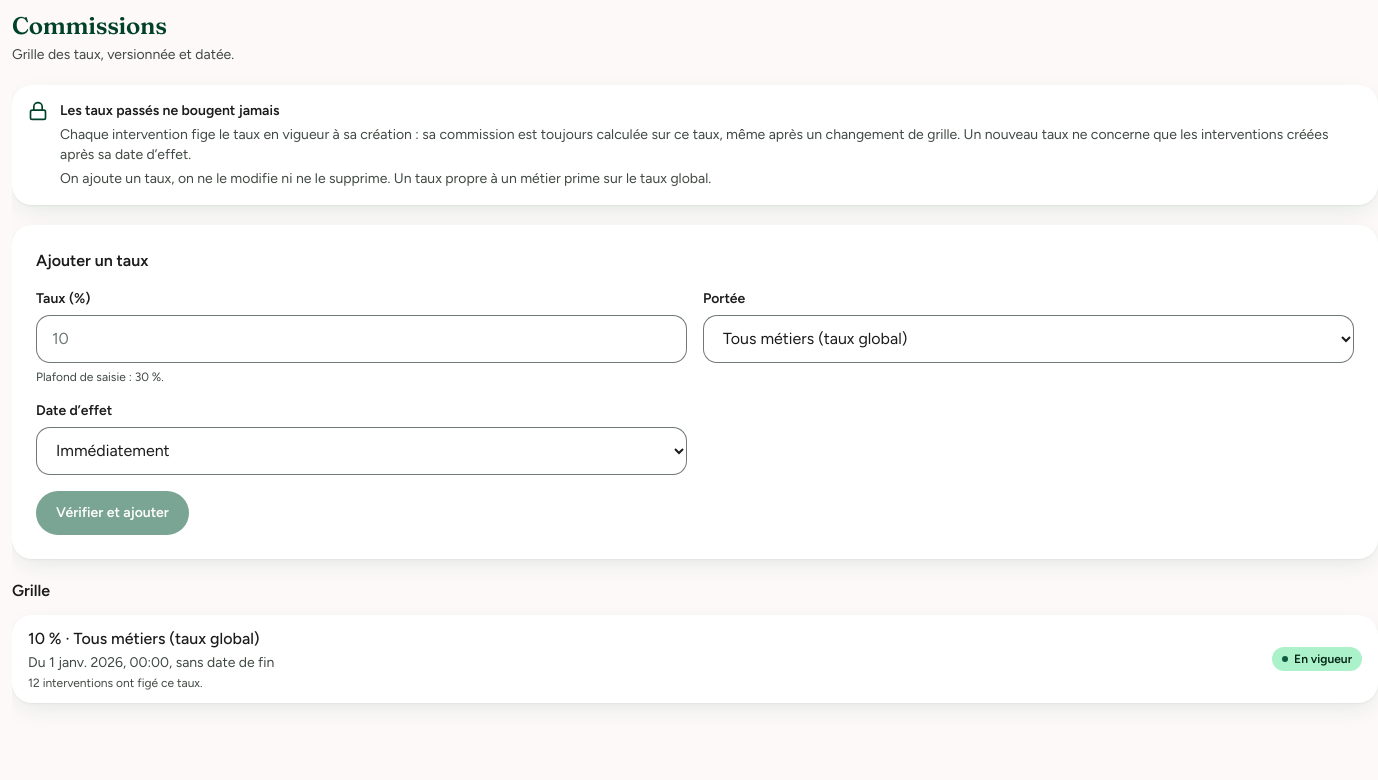
Test: AdminCommissionsScreen › refuse un taux au-delà du plafond avant tout envoi
Expected: the text "12 interventions ont figé ce taux." is shown, left=28, top=676, right=203, bottom=690
Type "45" into the field labelled "Taux (%)" at (362, 339), box left=36, top=315, right=687, bottom=363
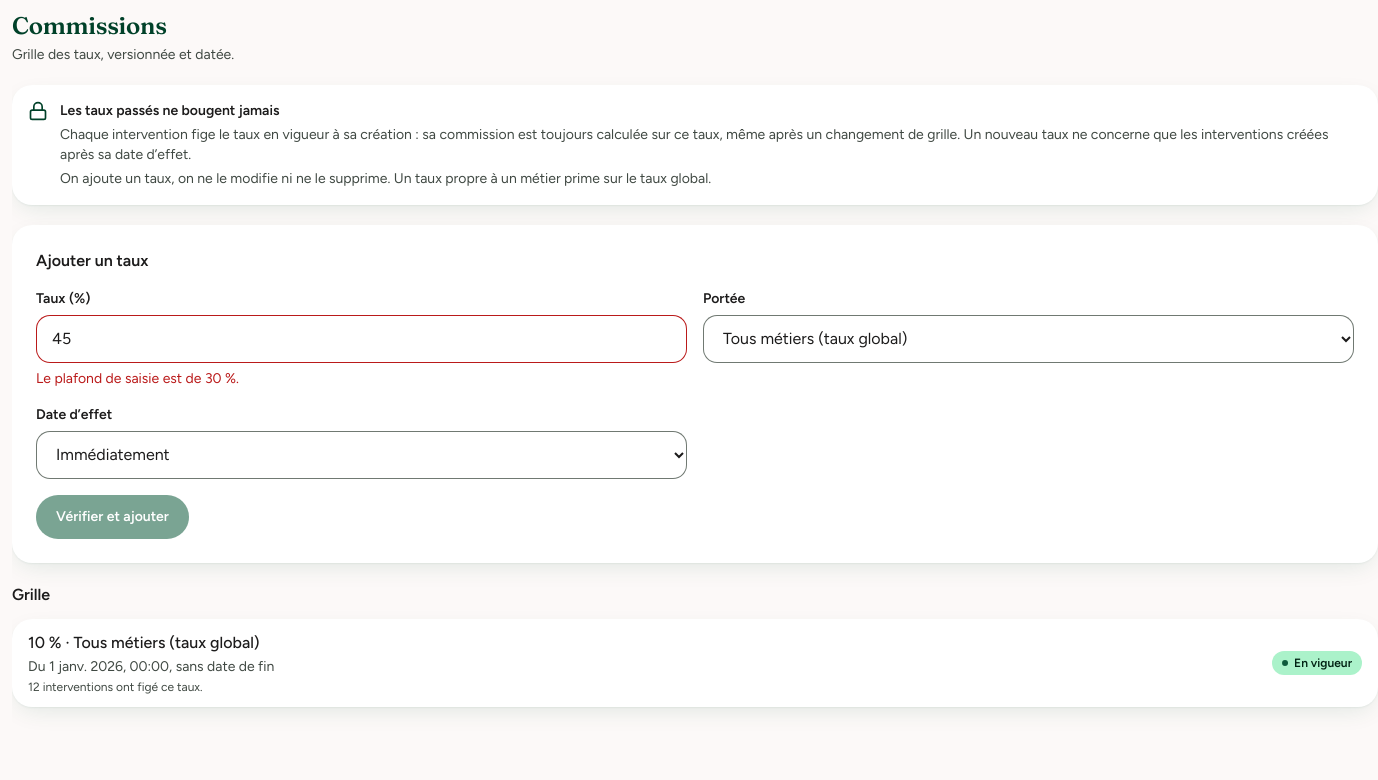
Expected: the button "Vérifier et ajouter" is disabled, left=36, top=495, right=189, bottom=539
Expected: the text "Le plafond de saisie est de 30 %." is shown, left=36, top=370, right=239, bottom=387
